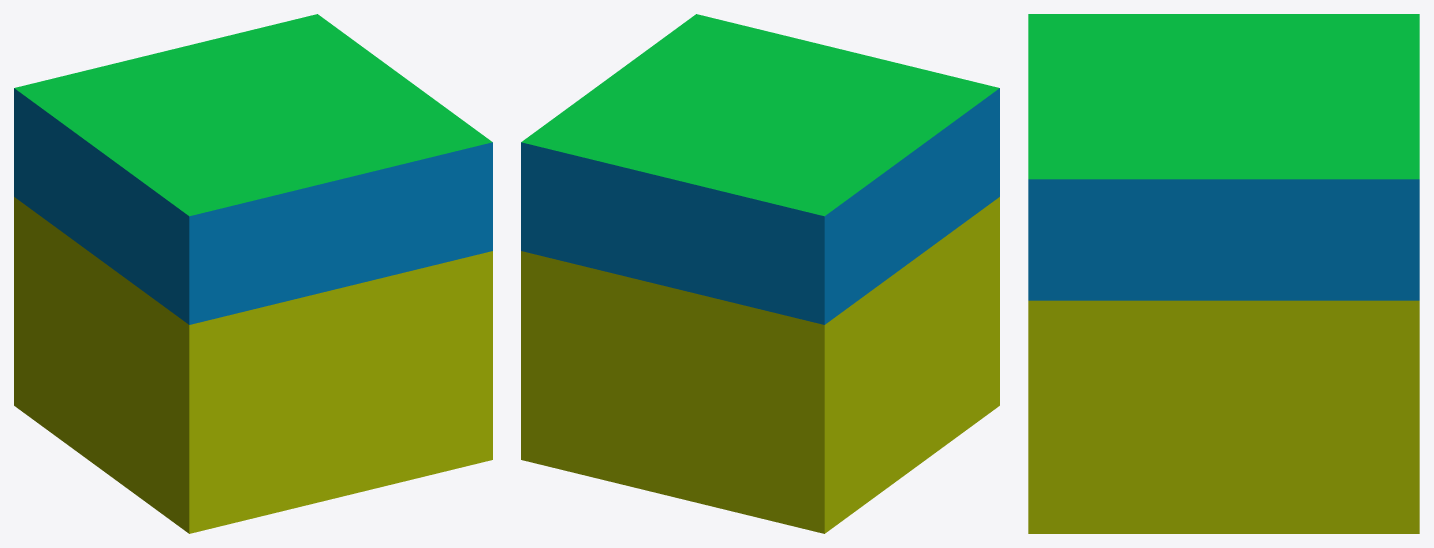
File: block_for_ground.fbx
3 renders of one model, left to right at view 1: azimuth 30°, elevation 25°; view 2: azimuth 150°, elevation 25°; view 3: azimuth 270°, elevation 25°, orthographic. The views are drawn at different scales.
Parts seen in each view (by area): view 1: body; view 2: body; view 3: body.
Part boxes in pixels (left/top/right/bottom): body: left=14, top=14, right=492, bottom=533; body: left=521, top=14, right=999, bottom=533; body: left=1028, top=14, right=1419, bottom=533.
Bounding box in the file's own units: 100 × 100 × 100.
